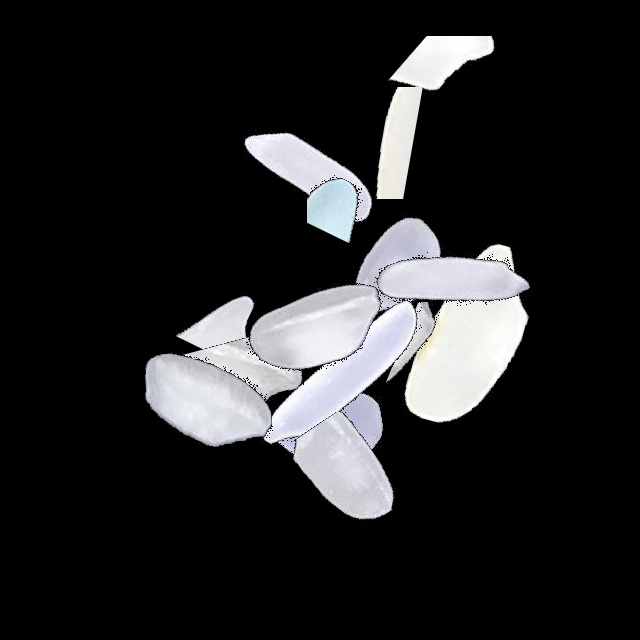Broken: (237, 412, 487, 580), (170, 290, 319, 540), (161, 163, 290, 413), (231, 87, 481, 199), (329, 302, 579, 409), (322, 36, 572, 132), (307, 70, 394, 320)
Full: (198, 303, 448, 553), (345, 210, 595, 460), (273, 142, 523, 392), (181, 50, 431, 300), (219, 249, 469, 499), (325, 154, 575, 404), (189, 199, 439, 449), (84, 275, 334, 525)
